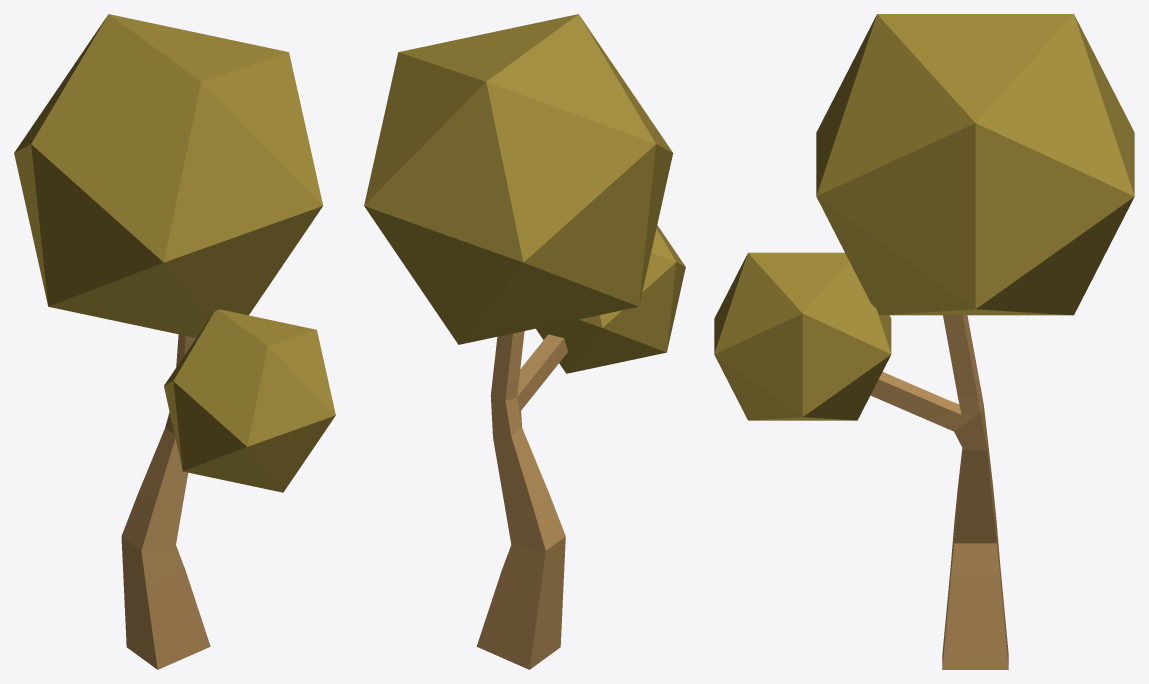
Rendered from tree_round_bonus_117.fbx.
The picture shows the model from 3 angles, left to right: view 1: azimuth 30°, elevation 25°; view 2: azimuth 150°, elevation 25°; view 3: azimuth 270°, elevation 25°; orthographic projection. The views are drawn at different scales.
Parts seen in each view (by area): view 1: Icosphere.003, Icosphere.001, Cube.001; view 2: Icosphere.003, Cube.001, Icosphere.001; view 3: Icosphere.003, Icosphere.001, Cube.001.
Boxes of the visible parts, bbox=[...] form: Icosphere.003: bbox=[14, 14, 323, 337]; Icosphere.001: bbox=[164, 309, 335, 492]; Cube.001: bbox=[121, 334, 210, 669]; Icosphere.003: bbox=[364, 14, 673, 344]; Cube.001: bbox=[476, 331, 567, 669]; Icosphere.001: bbox=[536, 225, 685, 373]; Icosphere.003: bbox=[816, 14, 1134, 315]; Icosphere.001: bbox=[714, 252, 891, 420]; Cube.001: bbox=[870, 315, 1008, 669].
Bounding box in the file's own units: 180 × 381 × 225.
